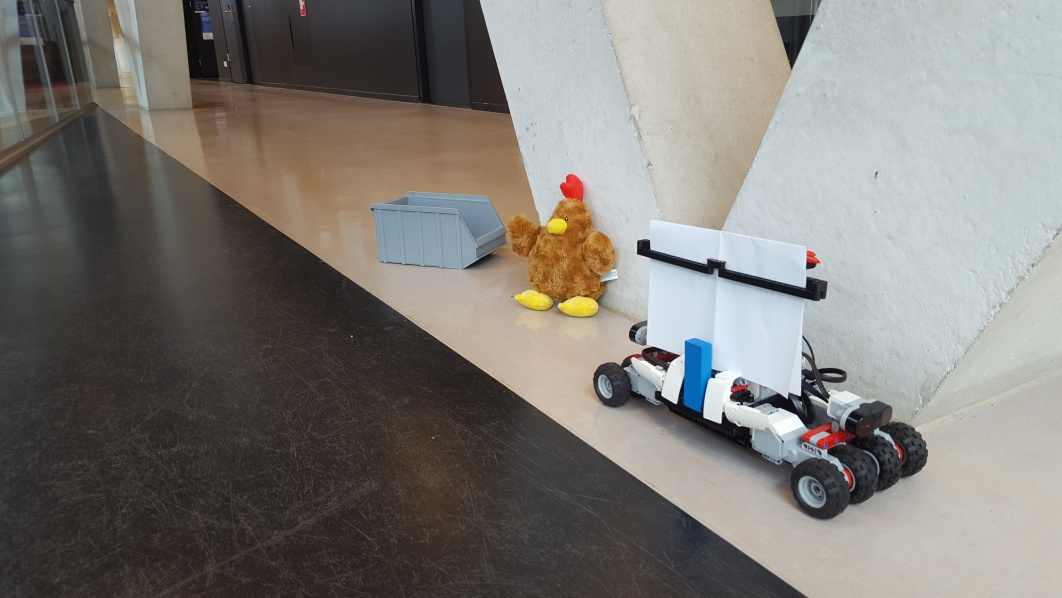beam: (683, 335, 711, 412)
chicken: (509, 175, 620, 319)
tray: (370, 188, 506, 269)
